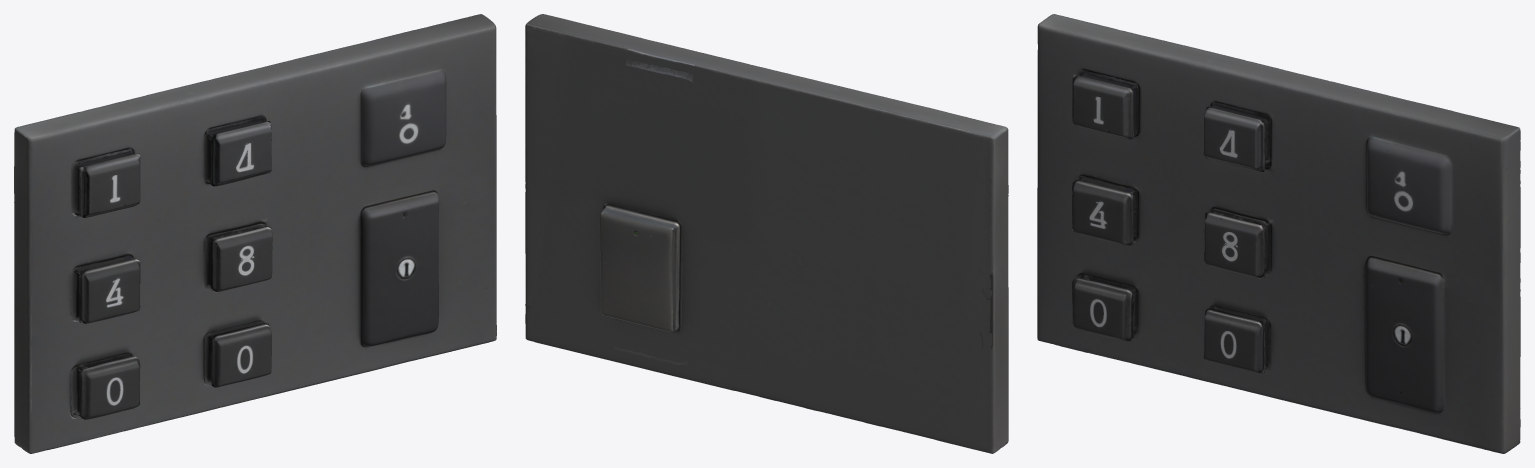
The model's file is elevatorkeys.glb.
3 renders of one model, left to right at view 1: azimuth 30°, elevation 25°; view 2: azimuth 150°, elevation 25°; view 3: azimuth 330°, elevation 25°, orthographic.
Size of the model in its own units: 2.01 by 1.3 by 0.2701.
Materials: 1 (1 with a texture image).
